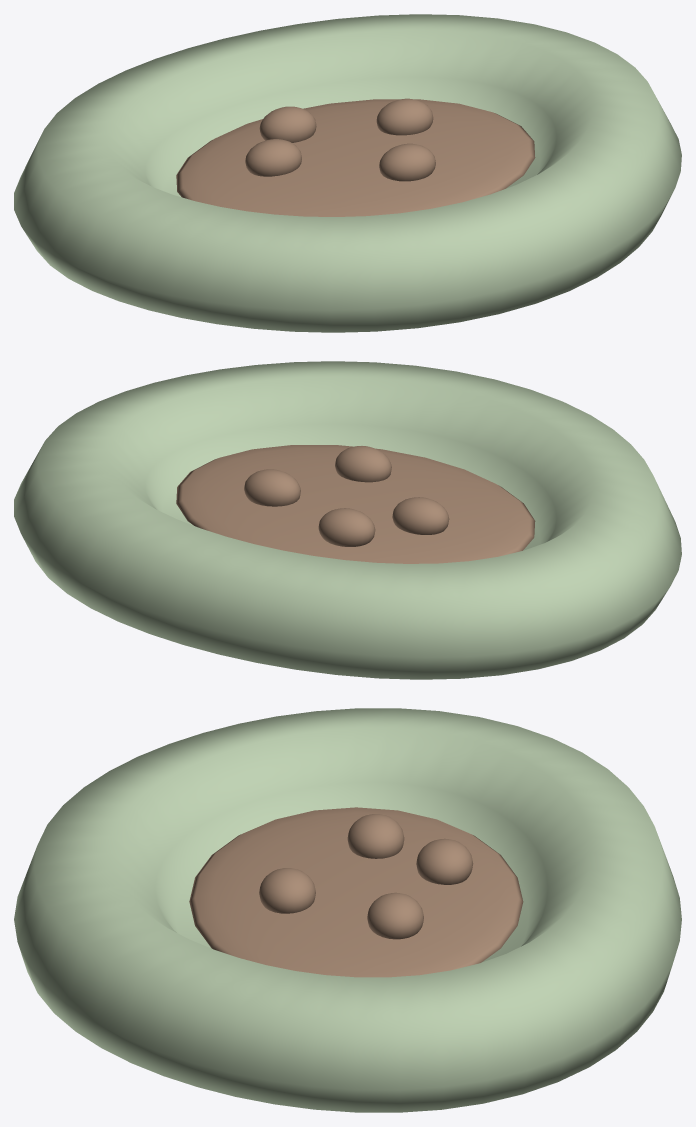
The model's file is feedingPebble.glb.
3 views of the same model, one above another, from view 1: azimuth 30°, elevation 25°; view 2: azimuth 150°, elevation 25°; view 3: azimuth 270°, elevation 25° (orthographic). The views are drawn at different scales.
Parts seen in each view (by area): view 1: Smooth feeding pebble, Pebble food surface, Feeder kibble.002, Feeder kibble, Feeder kibble.001, Feeder kibble.003; view 2: Smooth feeding pebble, Pebble food surface, Feeder kibble.003, Feeder kibble, Feeder kibble.001, Feeder kibble.002; view 3: Smooth feeding pebble, Pebble food surface, Feeder kibble.001, Feeder kibble.003, Feeder kibble.002, Feeder kibble.
Part boxes in pixels (left/top/right/bottom): Smooth feeding pebble: left=14, top=14, right=681, bottom=332; Pebble food surface: left=176, top=99, right=535, bottom=216; Feeder kibble.002: left=379, top=143, right=435, bottom=181; Feeder kibble: left=245, top=139, right=301, bottom=176; Feeder kibble.001: left=376, top=98, right=433, bottom=135; Feeder kibble.003: left=259, top=106, right=316, bottom=142; Smooth feeding pebble: left=14, top=361, right=681, bottom=679; Pebble food surface: left=176, top=445, right=535, bottom=563; Feeder kibble.003: left=318, top=508, right=375, bottom=546; Feeder kibble: left=392, top=497, right=449, bottom=534; Feeder kibble.001: left=244, top=469, right=300, bottom=506; Feeder kibble.002: left=335, top=446, right=391, bottom=482; Smooth feeding pebble: left=14, top=708, right=681, bottom=1112; Pebble food surface: left=189, top=807, right=523, bottom=977; Feeder kibble.001: left=367, top=892, right=423, bottom=939; Feeder kibble.003: left=416, top=838, right=473, bottom=884; Feeder kibble.002: left=259, top=868, right=315, bottom=913; Feeder kibble: left=347, top=814, right=404, bottom=858.
Size of the model in its own units: 0.8208 by 0.145 by 0.68.
